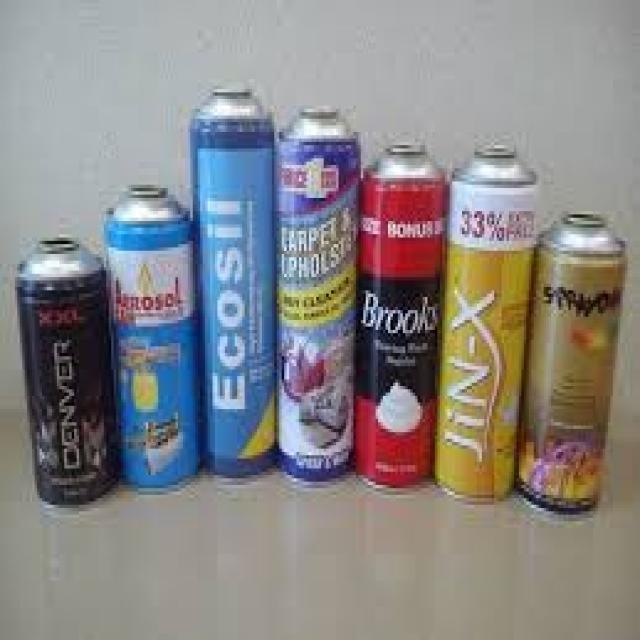metal: (188, 83, 272, 479), (440, 145, 534, 498), (516, 205, 623, 515), (101, 182, 203, 492), (272, 102, 353, 482), (12, 231, 119, 505), (356, 136, 435, 489)
